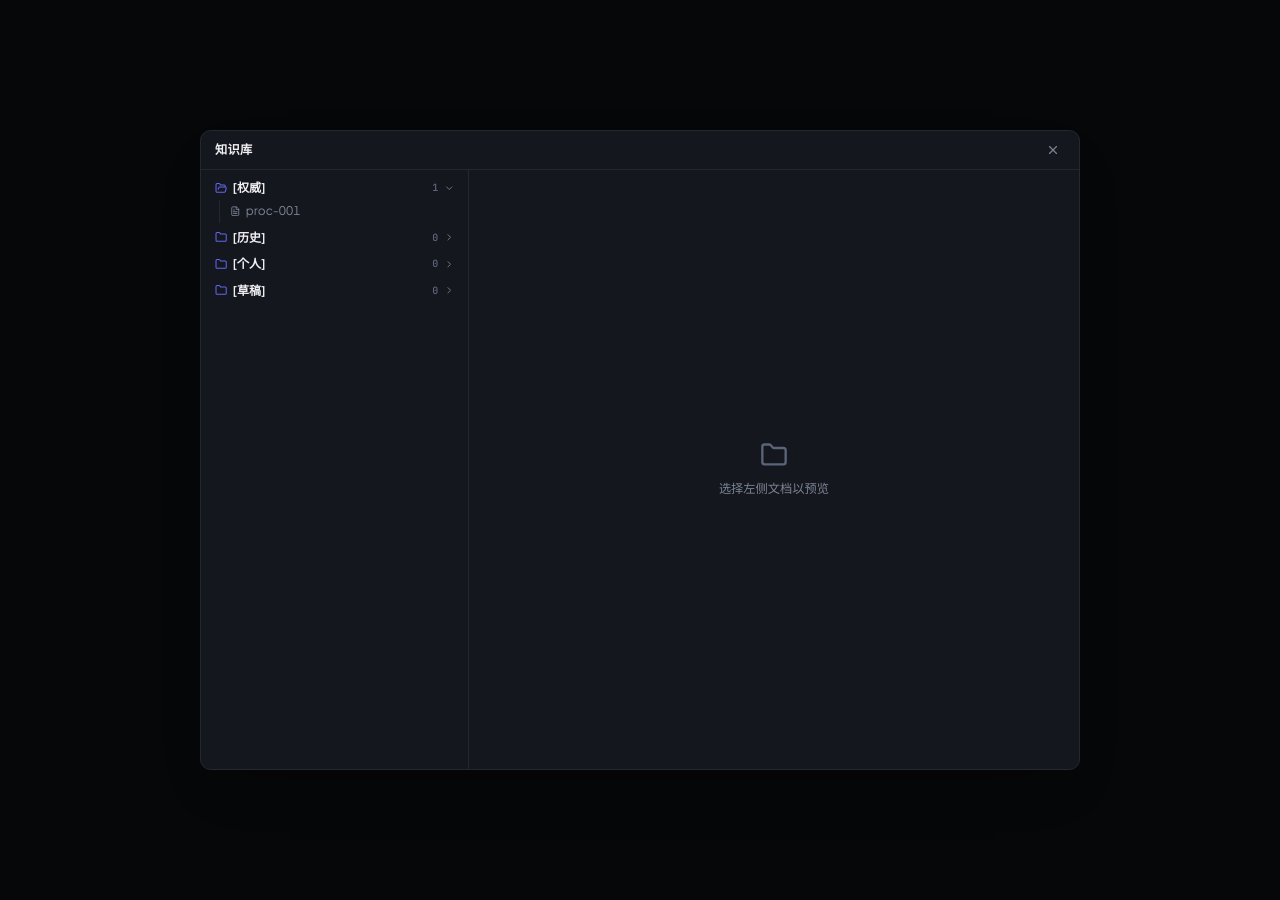
KnowledgeModal › clicking a doc opens the DocViewer preview with the registry tier badge
Click the button with test id "knowledge-modal-doc": [342, 211] box [223,200,461,222]
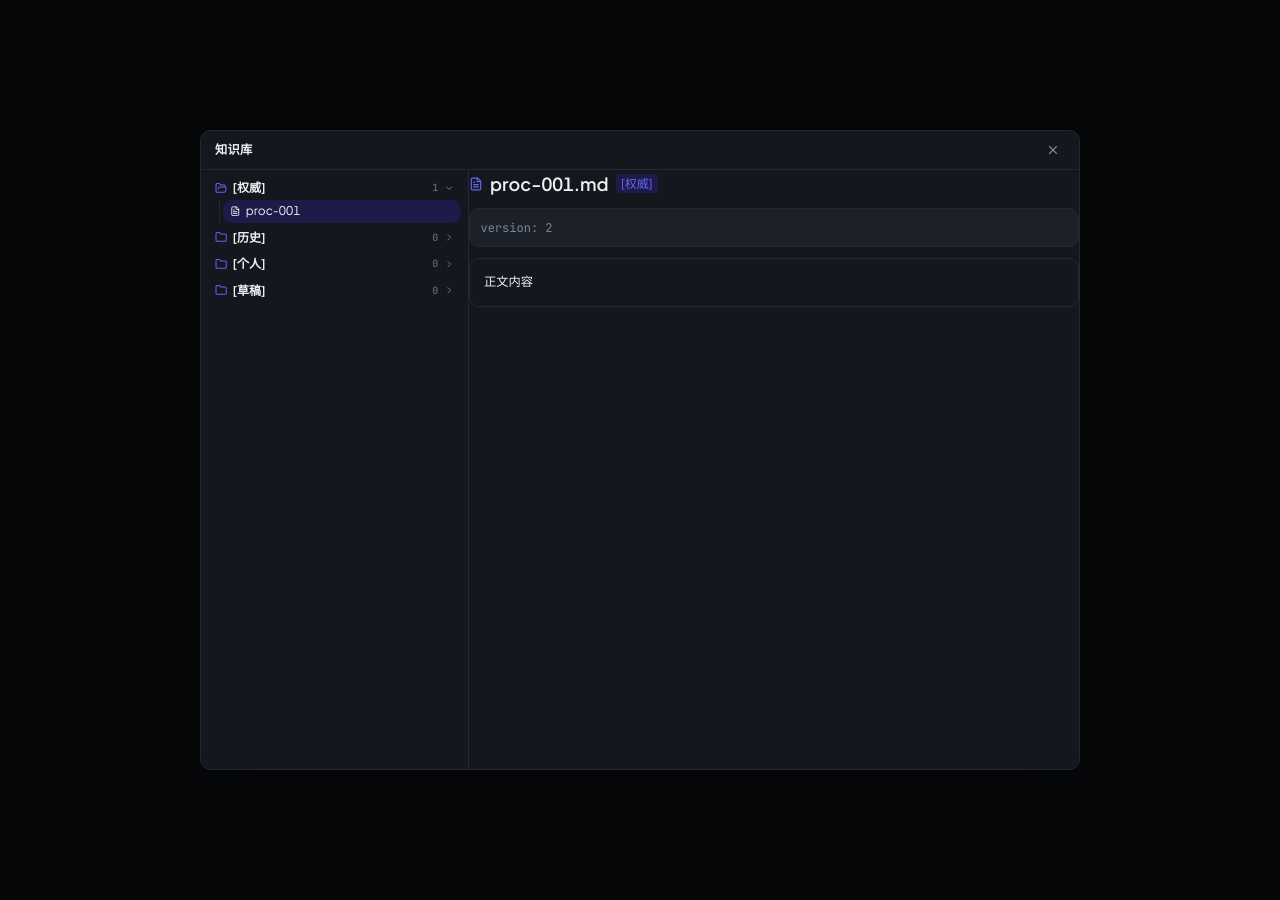
expect the element with test id "doc-viewer" is shown: met, box [469,170,1079,307]
expect the text with test id "doc-viewer-tier" reads "[权威]": met, box [621,176,652,190]
